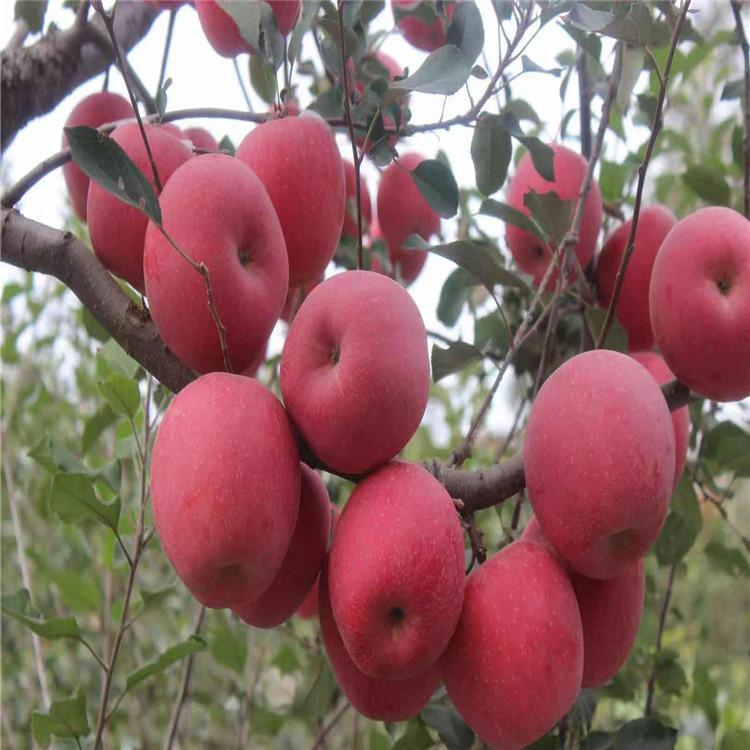apple: (150, 373, 302, 615), (523, 349, 676, 578), (280, 265, 433, 475), (144, 154, 288, 376), (325, 465, 466, 681), (442, 539, 583, 749), (647, 203, 749, 403), (233, 109, 348, 285), (82, 120, 196, 296), (505, 144, 605, 296)
